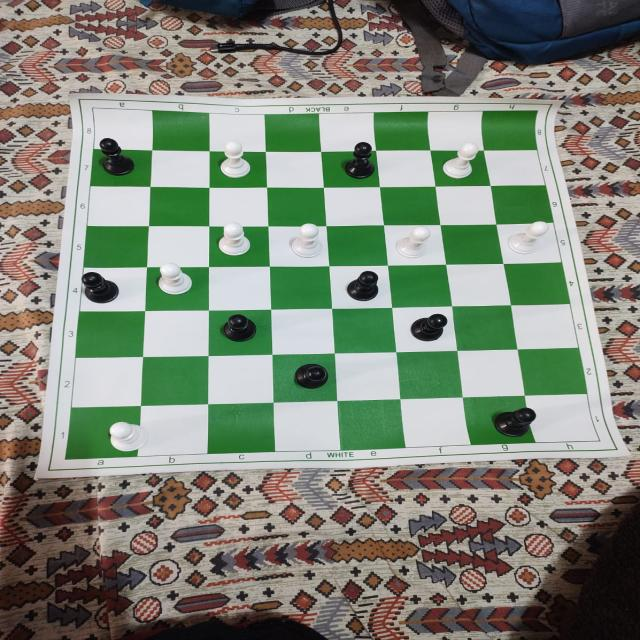board: (41, 98, 625, 477)
square: (65, 406, 141, 459), (525, 394, 601, 442), (72, 357, 143, 408), (463, 396, 536, 445), (138, 405, 208, 456), (400, 398, 471, 448), (337, 399, 405, 450), (208, 403, 275, 454), (141, 356, 209, 406), (274, 402, 341, 452), (519, 348, 588, 396), (457, 349, 525, 397), (76, 311, 145, 358), (397, 351, 464, 399), (273, 353, 337, 403), (335, 352, 400, 401), (208, 355, 273, 404), (511, 304, 579, 350), (143, 310, 209, 357), (79, 267, 147, 312), (392, 306, 458, 352), (452, 305, 518, 350), (272, 308, 335, 355), (209, 310, 273, 356), (332, 308, 396, 353), (209, 266, 272, 311), (145, 267, 209, 311), (505, 262, 570, 305), (446, 264, 511, 307), (388, 265, 452, 308), (83, 226, 148, 268), (497, 222, 562, 264), (270, 266, 332, 310), (329, 266, 392, 309), (440, 224, 504, 265), (93, 109, 154, 151), (384, 225, 446, 266), (87, 187, 150, 227), (491, 185, 554, 225), (209, 226, 270, 267), (269, 226, 330, 267), (327, 225, 388, 266), (147, 227, 209, 267), (153, 109, 210, 152), (209, 187, 268, 227), (435, 187, 497, 225), (149, 187, 209, 226), (324, 187, 384, 226), (431, 149, 492, 187), (90, 150, 152, 187), (319, 112, 376, 152), (372, 111, 429, 151), (267, 188, 327, 226), (380, 187, 440, 225), (376, 150, 435, 188), (484, 150, 546, 186), (429, 112, 486, 151), (321, 151, 381, 188), (209, 114, 266, 152), (150, 151, 210, 187), (266, 151, 323, 188), (210, 151, 268, 187), (265, 114, 321, 151), (484, 111, 538, 149)
